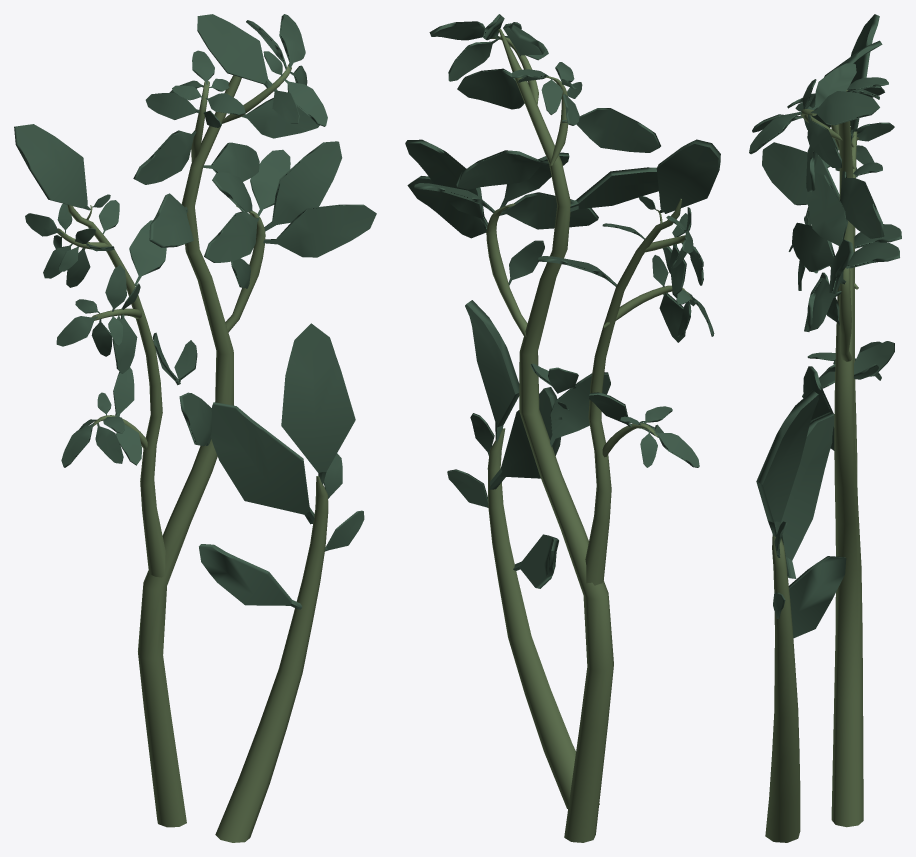
File: PL_potatoStage3_01.fbx
The picture shows the model from 3 angles, left to right: view 1: azimuth 30°, elevation 25°; view 2: azimuth 150°, elevation 25°; view 3: azimuth 270°, elevation 25°; orthographic projection. The views are drawn at different scales.
Parts seen in each view (by area): view 1: lod1; view 2: lod1; view 3: lod1.
Part boxes in pixels (x1=…): lod1: x1=14, y1=14, x2=376, y2=842; lod1: x1=405, y1=14, x2=720, y2=842; lod1: x1=749, y1=14, x2=901, y2=842.
Size of what is drawn, in the model's own units: 64.26 by 146 by 25.15.
1 material, 1 textured.
